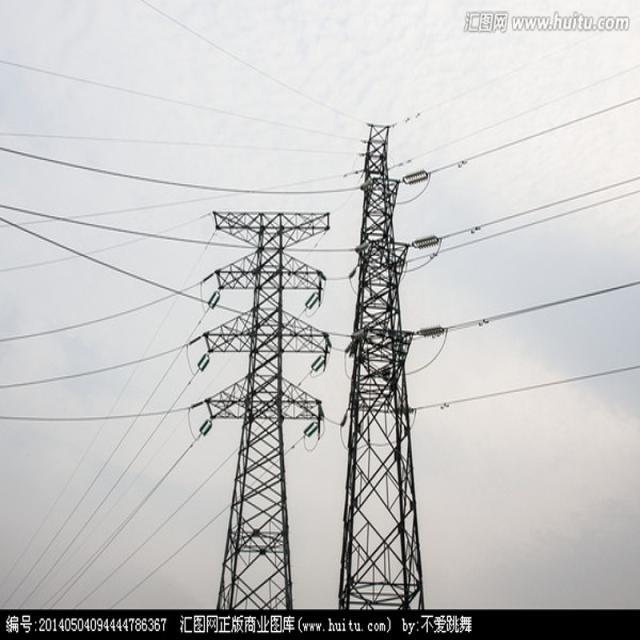non-critical vegetation: (190, 195, 312, 610), (334, 127, 434, 614)
